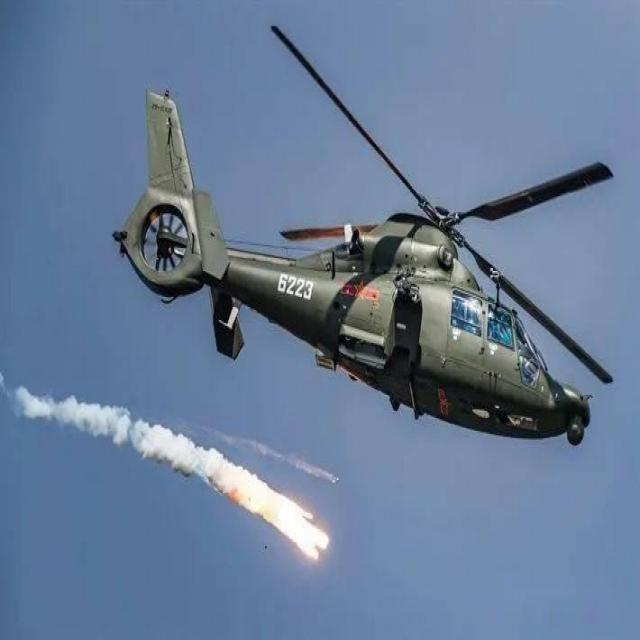MIL_HELO: (104, 0, 616, 494)
